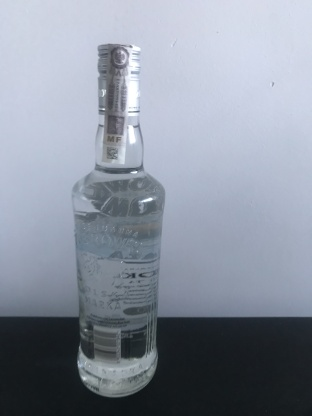nakretka: (94, 38, 143, 119)
